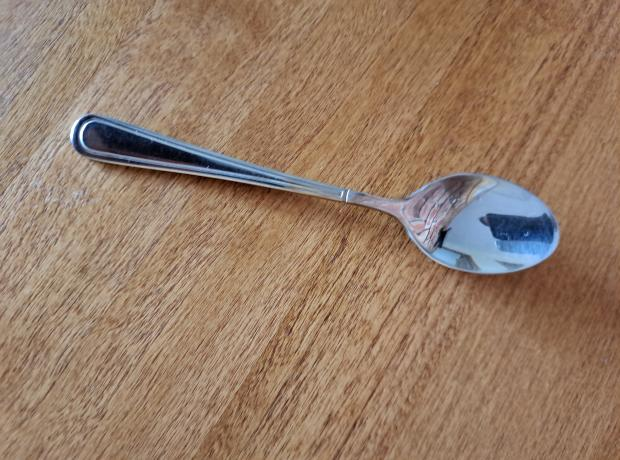metal: (68, 112, 564, 273)
